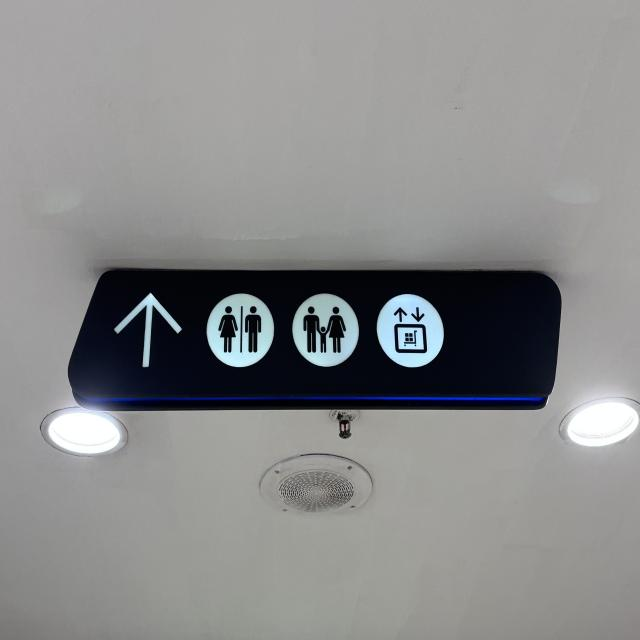toilet_icon: (210, 298, 268, 371)
